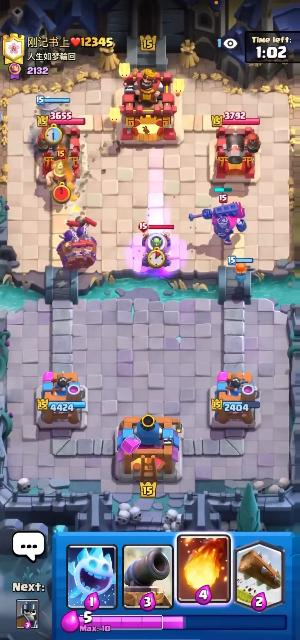ally_melee: (228, 255, 257, 298)
enemy_building: (139, 222, 175, 265)
enemy_melee: (188, 194, 246, 246), (47, 150, 74, 187)
